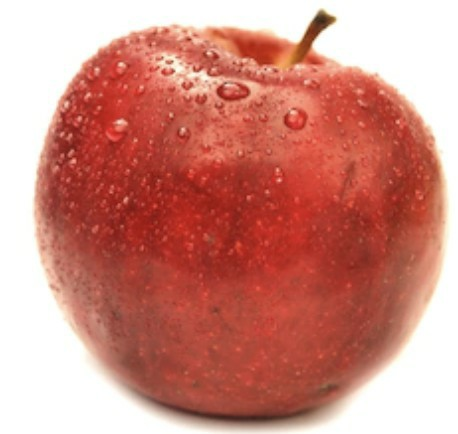fresh_apple: (32, 21, 450, 418)
